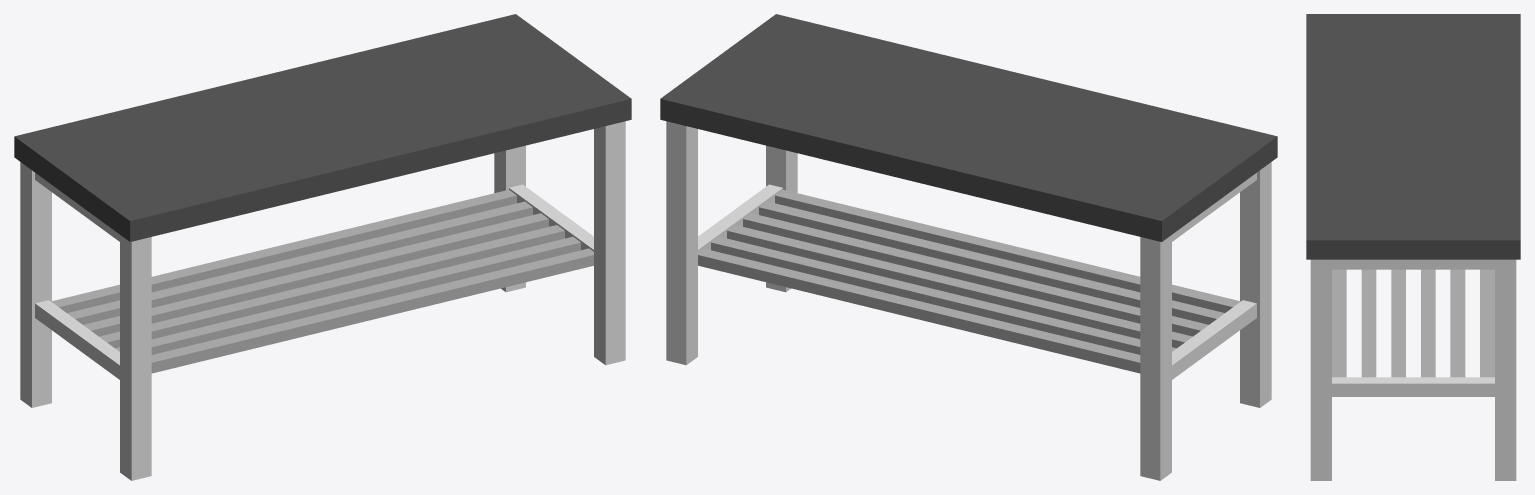
Rendered from Bench2_C1.fbx.
3 renders of one model, left to right at view 1: azimuth 30°, elevation 25°; view 2: azimuth 150°, elevation 25°; view 3: azimuth 270°, elevation 25°, orthographic. The views are drawn at different scales.
Parts seen in each view (by area): view 1: Bench2_C1; view 2: Bench2_C1; view 3: Bench2_C1.
Boxes of the visible parts, x1,y1,x2,y2 form: Bench2_C1: (14,14,631,480); Bench2_C1: (660,14,1277,480); Bench2_C1: (1306,14,1520,480).
Size of the model in its own units: 100 by 50 by 40.
